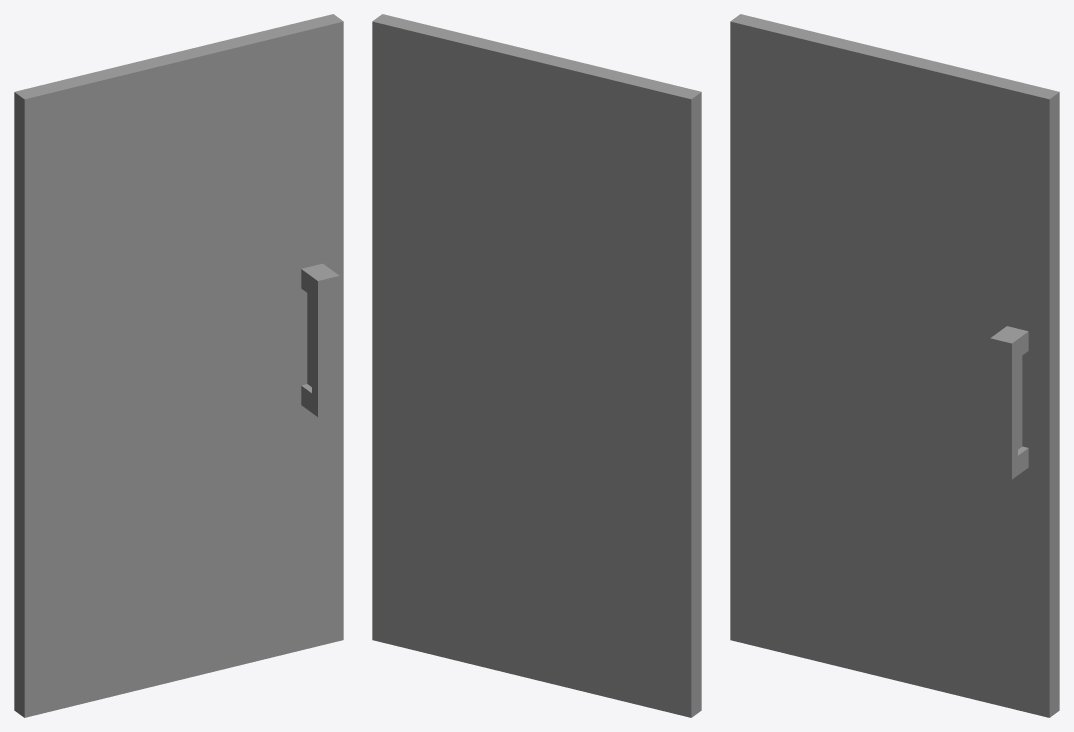
The model's file is Itr_Shelf1_Door_Left_02.FBX.
The picture shows the model from 3 angles, left to right: view 1: azimuth 30°, elevation 25°; view 2: azimuth 150°, elevation 25°; view 3: azimuth 330°, elevation 25°; orthographic projection.
Parts seen in each view (by area): view 1: Itr_Shelf1_Door_Left_02; view 2: Itr_Shelf1_Door_Left_02; view 3: Itr_Shelf1_Door_Left_02.
Boxes of the visible parts, x1,y1,x2,y2 form: Itr_Shelf1_Door_Left_02: (14, 14, 343, 717); Itr_Shelf1_Door_Left_02: (372, 14, 701, 717); Itr_Shelf1_Door_Left_02: (730, 14, 1059, 717).
Size of the model in its own units: 22.1 by 40.92 by 3.23.
